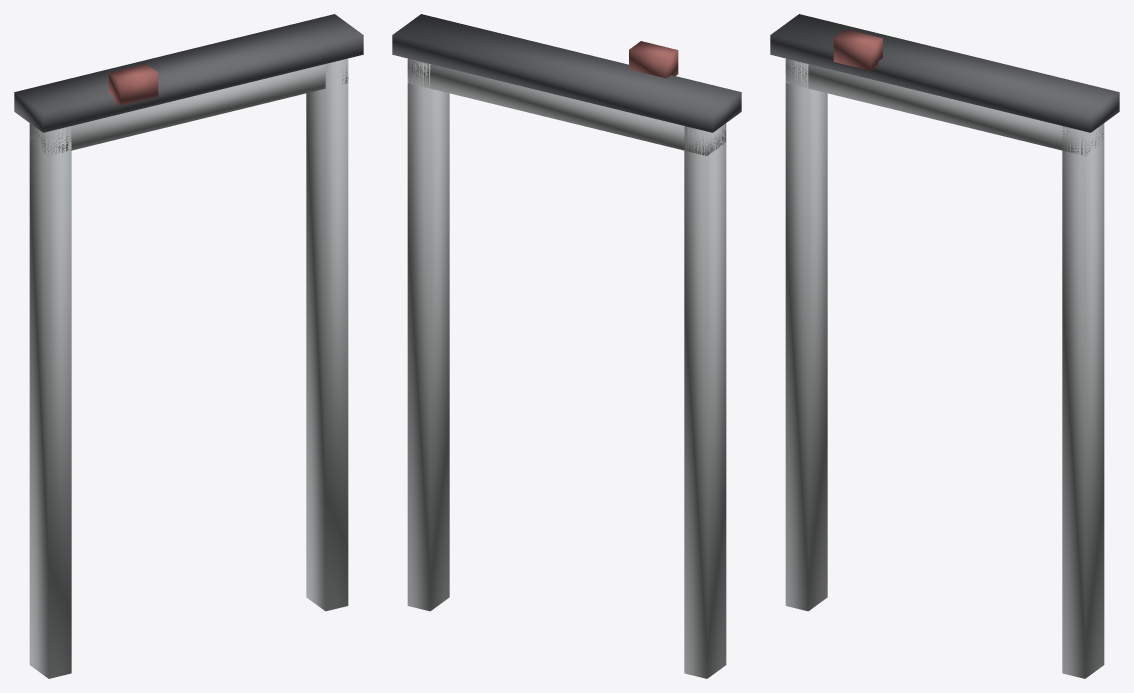
File: doorway_fire_rated_w122_h240_d16.glb
3 renders of one model, left to right at view 1: azimuth 30°, elevation 25°; view 2: azimuth 150°, elevation 25°; view 3: azimuth 330°, elevation 25°, orthographic.
Parts seen in each view (by area): view 1: world; view 2: world; view 3: world.
Boxes of the visible parts, x1,y1,x2,y2 form: world: (14, 14, 363, 678); world: (392, 14, 741, 678); world: (770, 14, 1119, 678).
Bounding box in the file's own units: 1.54 × 2.71 × 0.3.
